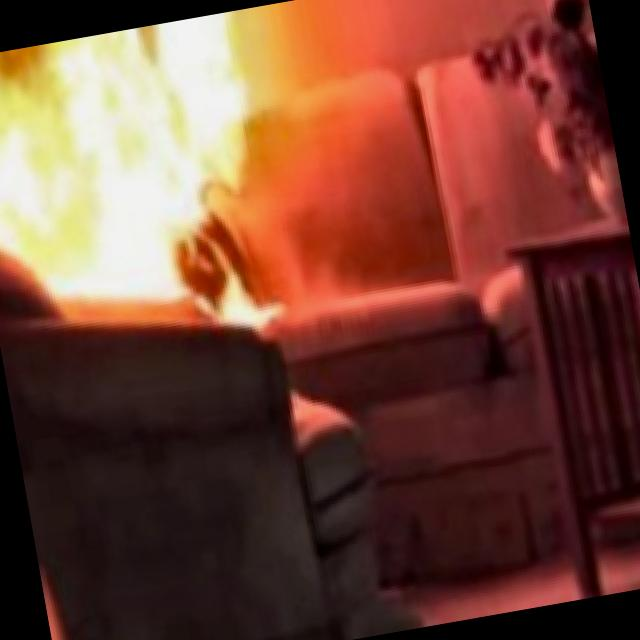fire: (0, 5, 317, 389)
